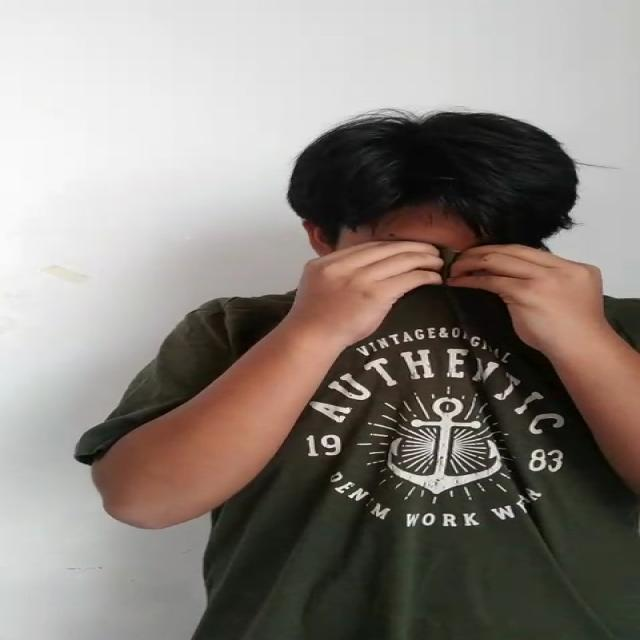8_ropa_rostro: (202, 245, 640, 342)
